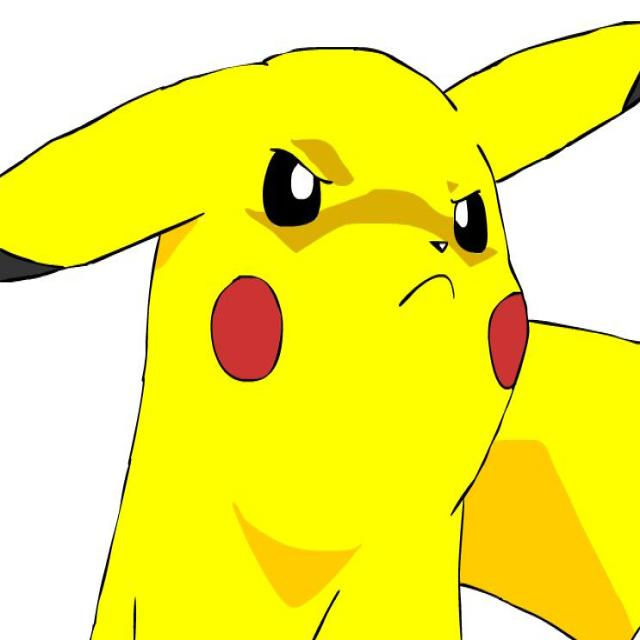pikachu: (1, 1, 640, 637)
